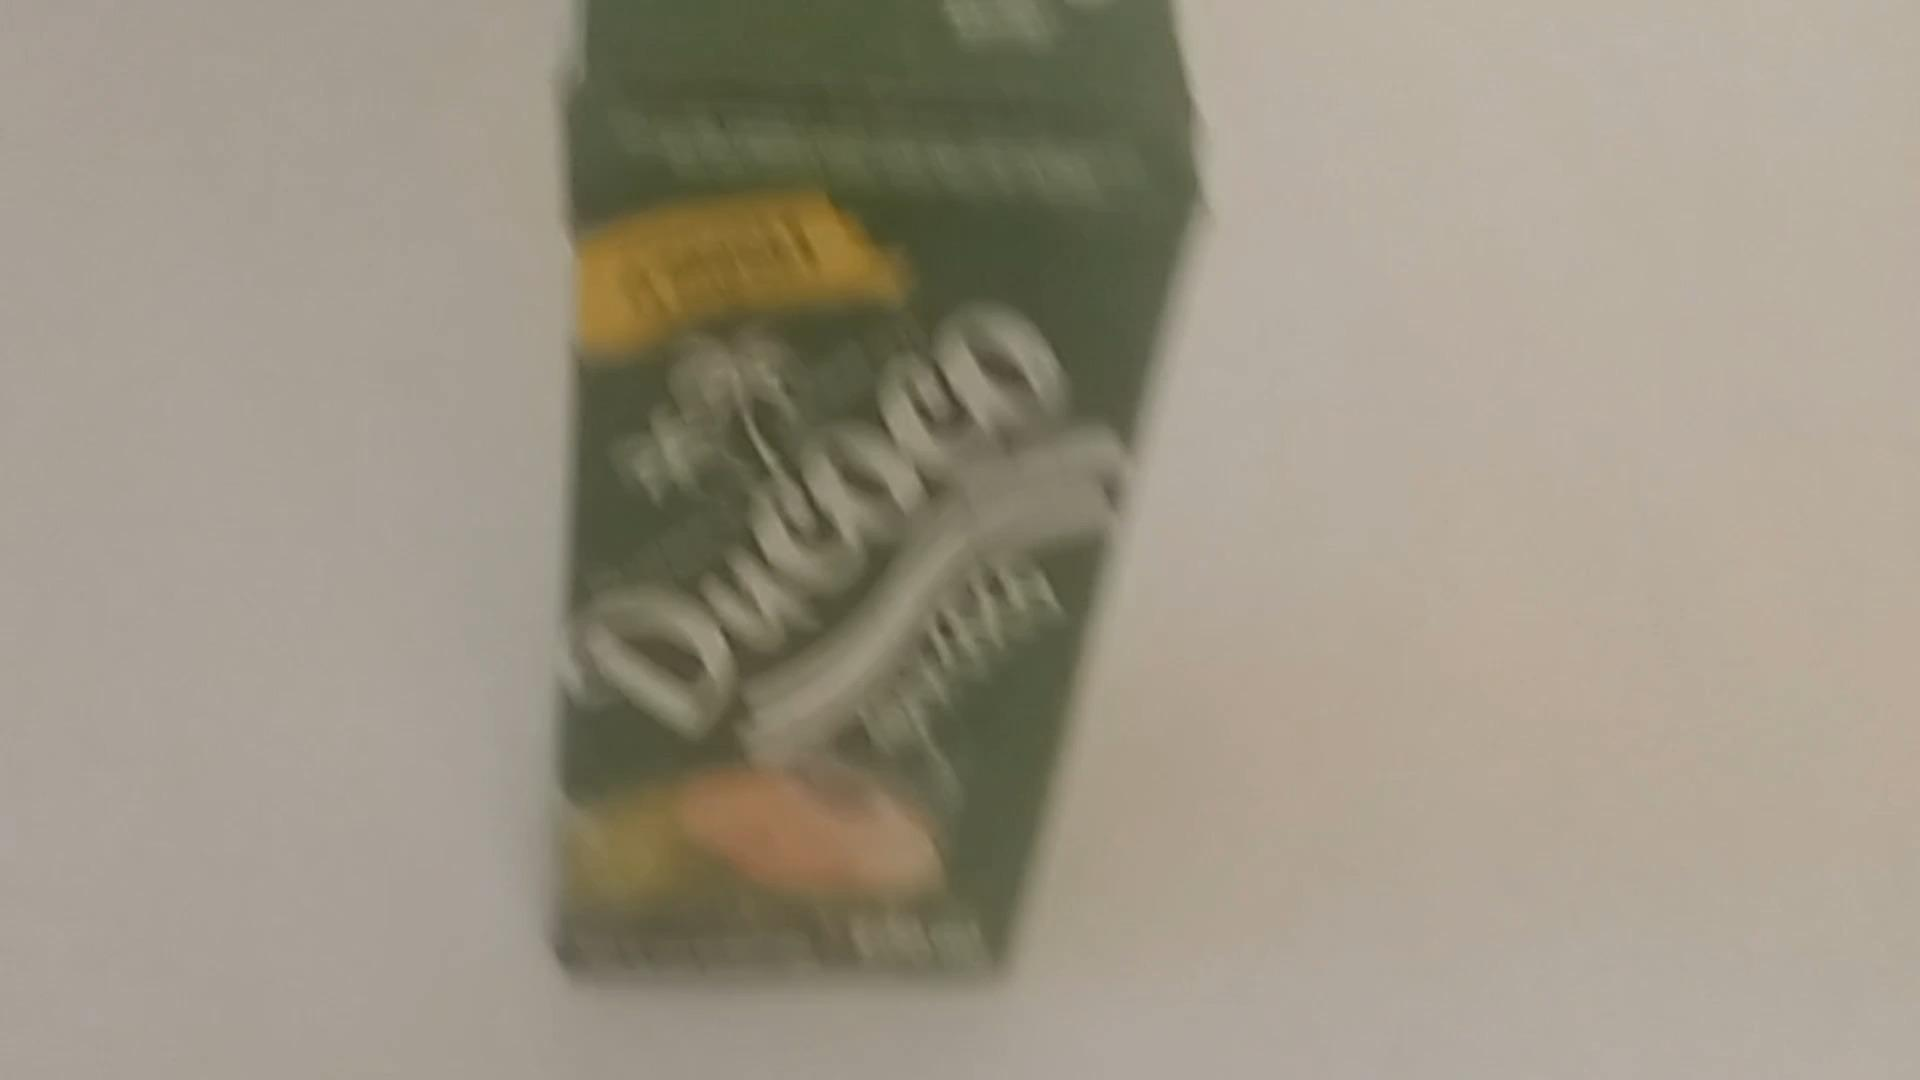coco: (543, 3, 1211, 1002)
